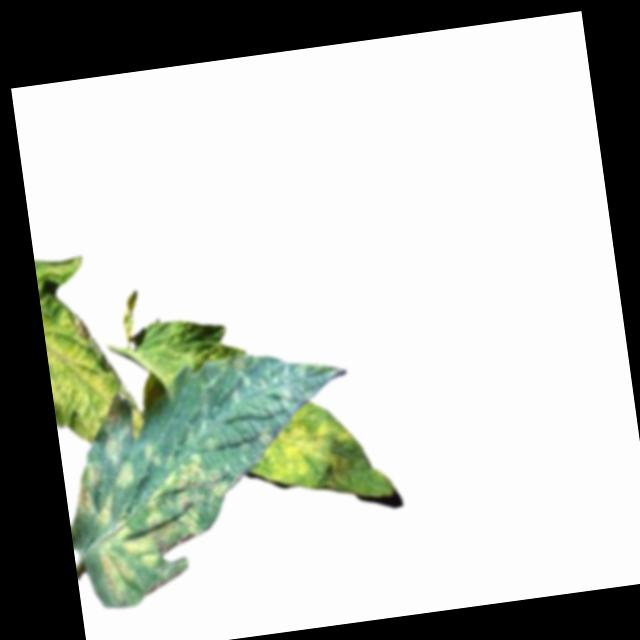Leaf_Mold: (71, 434, 252, 607), (42, 305, 140, 457), (254, 404, 356, 491)
